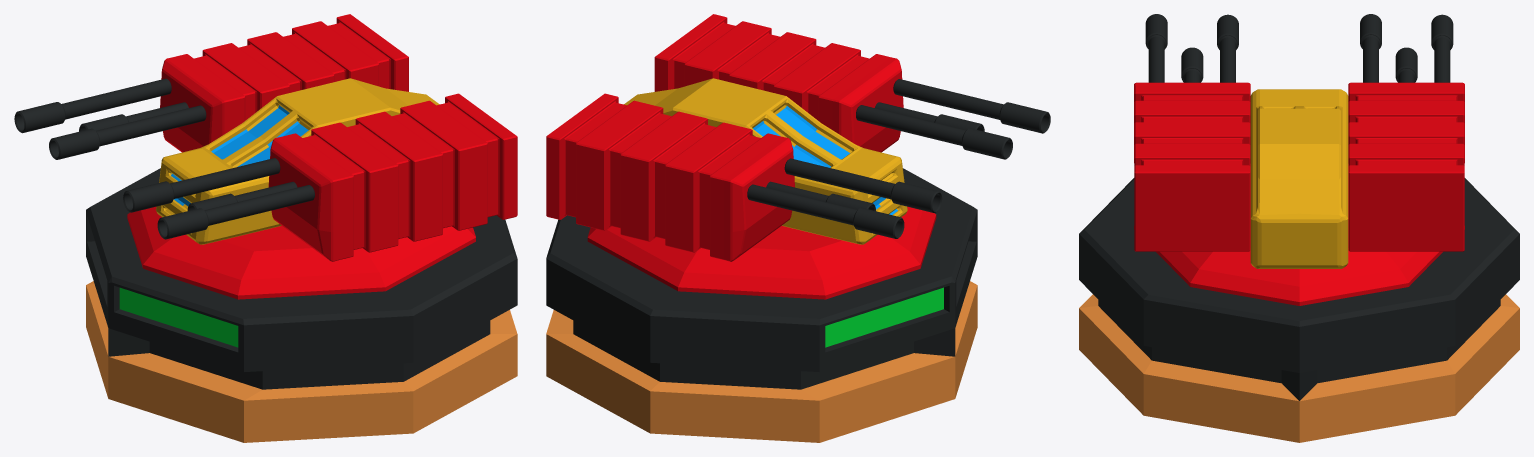
Rendered from CannonTurretC.fbx.
3 renders of one model, left to right at view 1: azimuth 30°, elevation 25°; view 2: azimuth 150°, elevation 25°; view 3: azimuth 270°, elevation 25°, orthographic.
Parts seen in each view (by area): view 1: WeaponPlatform.004, CannonTurretC.010, CannonTurretC.009, CannonTurretC, CannonTurretC.004, CannonTurretC.003, CannonTurretC.006, CannonTurretC.002, CannonTurretC.001, CannonTurretC.005; view 2: WeaponPlatform.004, CannonTurretC.009, CannonTurretC.010, CannonTurretC, CannonTurretC.002, CannonTurretC.004, CannonTurretC.006, CannonTurretC.003, CannonTurretC.005, CannonTurretC.001; view 3: WeaponPlatform.004, CannonTurretC.009, CannonTurretC.010, CannonTurretC, CannonTurretC.002, CannonTurretC.006, CannonTurretC.004, CannonTurretC.003, CannonTurretC.005, CannonTurretC.001.
Part boxes in pixels (box(x1,y1,x2,y2)): WeaponPlatform.004: box(86, 168, 517, 442); CannonTurretC.010: box(268, 93, 517, 261); CannonTurretC.009: box(160, 14, 408, 152); CannonTurretC: box(156, 78, 439, 244); CannonTurretC.004: box(49, 105, 206, 159); CannonTurretC.003: box(123, 158, 280, 212); CannonTurretC.006: box(14, 78, 171, 133); CannonTurretC.002: box(157, 185, 314, 239); CannonTurretC.001: box(187, 181, 297, 210); CannonTurretC.005: box(79, 102, 188, 131); WeaponPlatform.004: box(546, 168, 977, 442); CannonTurretC.009: box(546, 93, 794, 261); CannonTurretC.010: box(654, 14, 903, 152); CannonTurretC: box(624, 78, 907, 244); CannonTurretC.002: box(893, 79, 1050, 133); CannonTurretC.004: box(784, 158, 942, 212); CannonTurretC.006: box(747, 184, 904, 238); CannonTurretC.003: box(856, 105, 1012, 159); CannonTurretC.005: box(766, 181, 875, 210); CannonTurretC.001: box(875, 102, 984, 131); WeaponPlatform.004: box(1079, 164, 1519, 442); CannonTurretC.009: box(1348, 82, 1464, 251); CannonTurretC.010: box(1134, 82, 1250, 251); CannonTurretC: box(1250, 89, 1348, 268); CannonTurretC.002: box(1145, 14, 1167, 82); CannonTurretC.006: box(1431, 14, 1453, 82); CannonTurretC.004: box(1360, 14, 1381, 82); CannonTurretC.003: box(1217, 14, 1238, 82); CannonTurretC.005: box(1395, 47, 1417, 82); CannonTurretC.001: box(1181, 47, 1203, 82).
Size of the model in its own units: 209 by 121 by 200.
